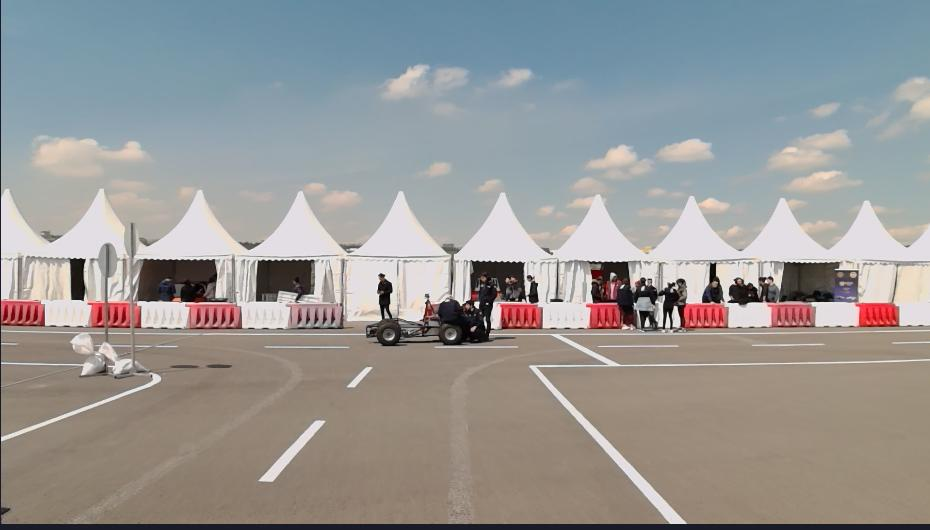nesne: (0, 335, 929, 527), (219, 336, 930, 523), (0, 339, 387, 525), (490, 330, 687, 522), (0, 368, 162, 443), (1, 300, 341, 325), (686, 301, 905, 327), (363, 293, 463, 344), (257, 416, 325, 480), (571, 325, 906, 337), (627, 356, 906, 369), (0, 328, 360, 336), (69, 327, 107, 374), (99, 342, 144, 376), (477, 270, 498, 336), (238, 302, 288, 329), (290, 301, 340, 328), (139, 301, 188, 328), (725, 301, 772, 329), (631, 277, 656, 328), (539, 302, 586, 328), (86, 302, 139, 325), (191, 302, 239, 327), (810, 302, 859, 326), (498, 301, 541, 328), (276, 275, 320, 301), (0, 298, 42, 325), (42, 301, 88, 325), (656, 278, 676, 331), (832, 267, 862, 302), (770, 301, 812, 326), (727, 275, 763, 304), (460, 298, 483, 341), (375, 272, 395, 318), (586, 301, 619, 328), (685, 303, 722, 327), (751, 337, 825, 349), (857, 303, 897, 324), (620, 275, 635, 328), (756, 275, 780, 303), (596, 341, 679, 349), (674, 277, 687, 327), (0, 358, 81, 366), (155, 273, 175, 302), (501, 274, 523, 300), (347, 364, 373, 386), (701, 274, 722, 300), (115, 340, 175, 349), (589, 272, 605, 301), (607, 270, 621, 303), (263, 344, 348, 349), (525, 274, 538, 302), (433, 344, 518, 348), (893, 337, 930, 345), (488, 303, 498, 326), (897, 303, 908, 323)
